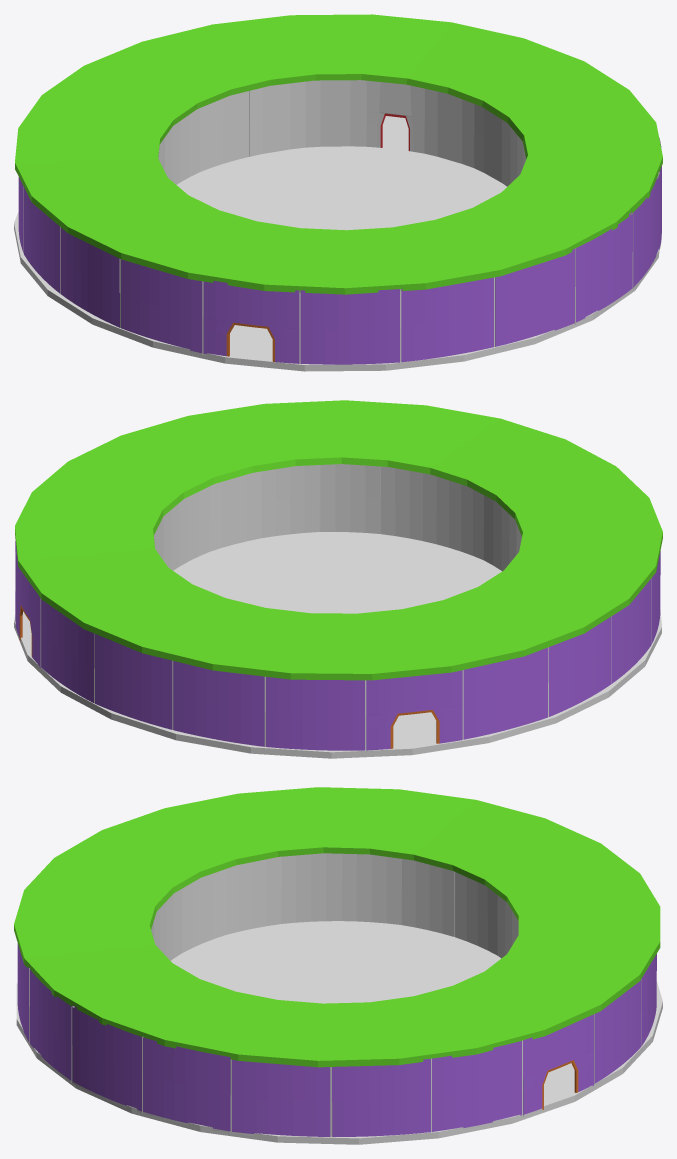
Rendered from Centro.fbx.
3 views of the same model, one above another, from view 1: azimuth 30°, elevation 25°; view 2: azimuth 150°, elevation 25°; view 3: azimuth 270°, elevation 25° (orthographic).
Visible parts, largest first — view 1: Techo, PutoCentro, Piso; view 2: Techo, PutoCentro, Piso; view 3: Techo, PutoCentro, Piso.
Boxes of the visible parts, x1=… form: Techo: x1=15, y1=14, x2=662, y2=294; PutoCentro: x1=18, y1=80, x2=661, y2=364; Piso: x1=14, y1=116, x2=659, y2=371; Techo: x1=15, y1=400, x2=662, y2=680; PutoCentro: x1=15, y1=464, x2=660, y2=750; Piso: x1=14, y1=532, x2=661, y2=758; Techo: x1=14, y1=787, x2=660, y2=1067; PutoCentro: x1=17, y1=853, x2=656, y2=1136; Piso: x1=16, y1=921, x2=662, y2=1144.
Bounding box in the file's own units: 4581 × 655 × 4590.
